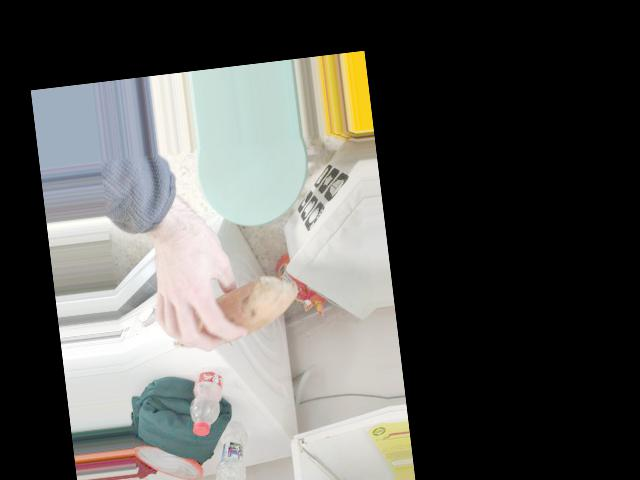sweet_potato: (161, 278, 298, 352)
